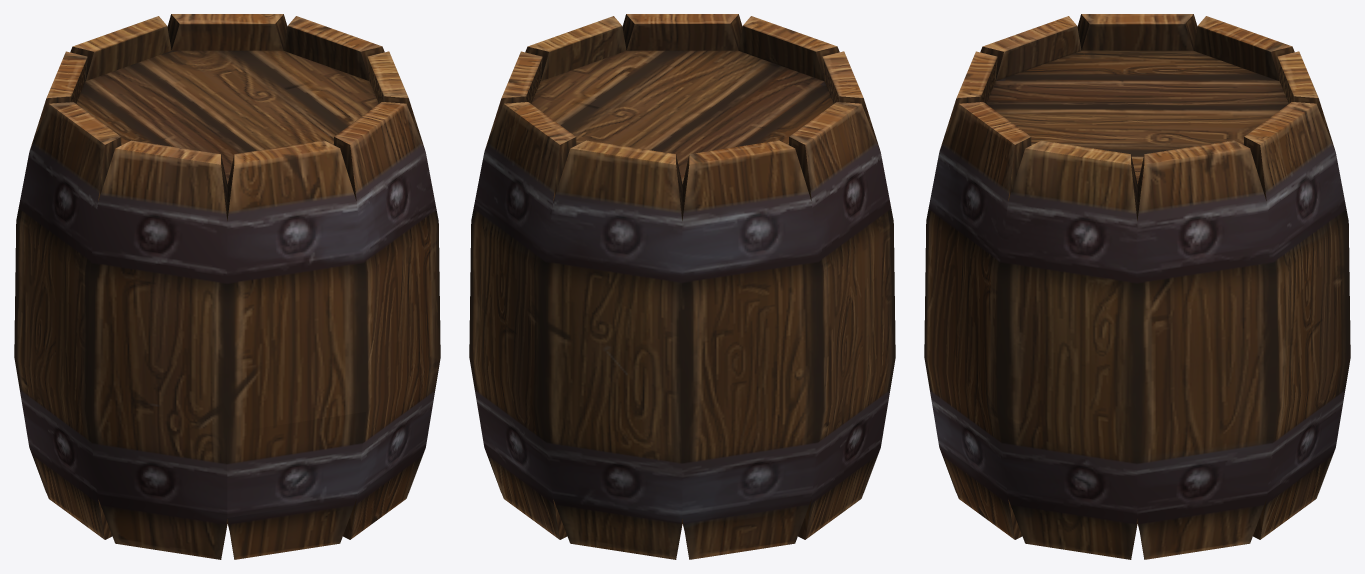
Rendered from Prop_Barrel.fbx.
3 views of the same model, side by side, from view 1: azimuth 30°, elevation 25°; view 2: azimuth 150°, elevation 25°; view 3: azimuth 270°, elevation 25° (orthographic).
Visible parts, largest first — view 1: polySurface568; view 2: polySurface568; view 3: polySurface568.
Part boxes in pixels (x1=…): polySurface568: x1=14, y1=14, x2=440, y2=559; polySurface568: x1=469, y1=14, x2=895, y2=559; polySurface568: x1=924, y1=14, x2=1350, y2=559.
Bounding box in the file's own units: 1.02 × 1.06 × 1.04.
Materials: 1 (1 with a texture image).
